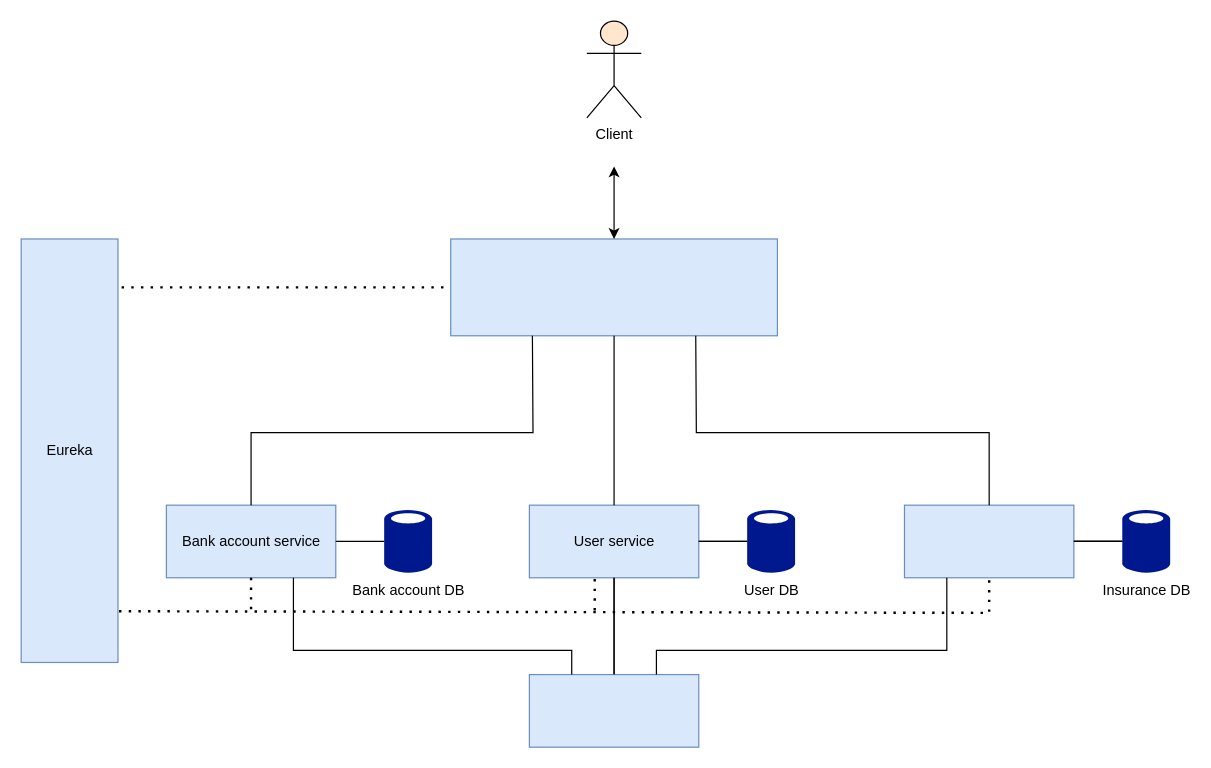
This 1211x768 diagram has some shape labels left out. The shapes that lost their labels are listed below. From the top down, each one's box as (x1, y1, x2, y2) in pixels, then its label:
(450, 238, 777, 336): Zuul gateway
(903, 504, 1074, 578): Insurance service
(528, 673, 699, 747): common
